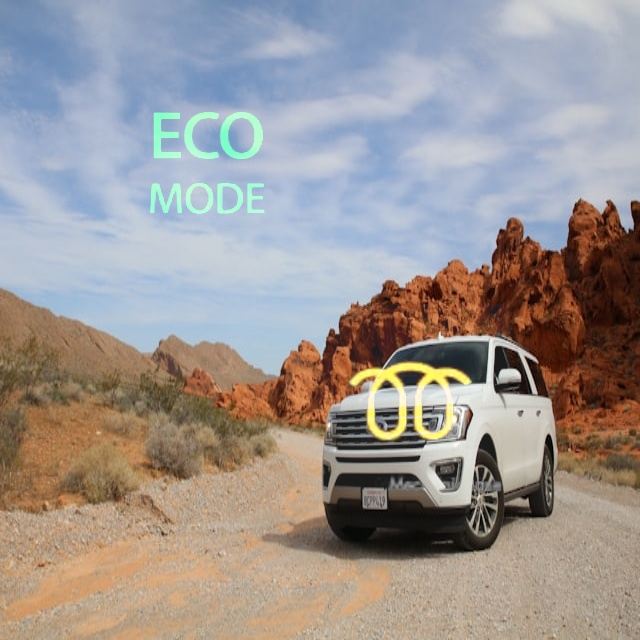symbol: (312, 304, 509, 501), (140, 98, 274, 232)
